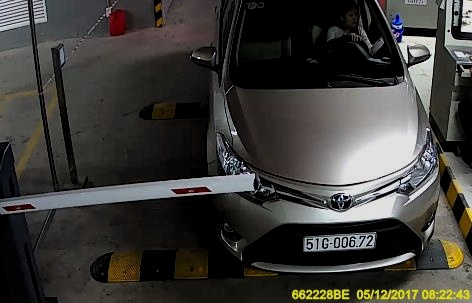plate: (302, 231, 377, 251)
